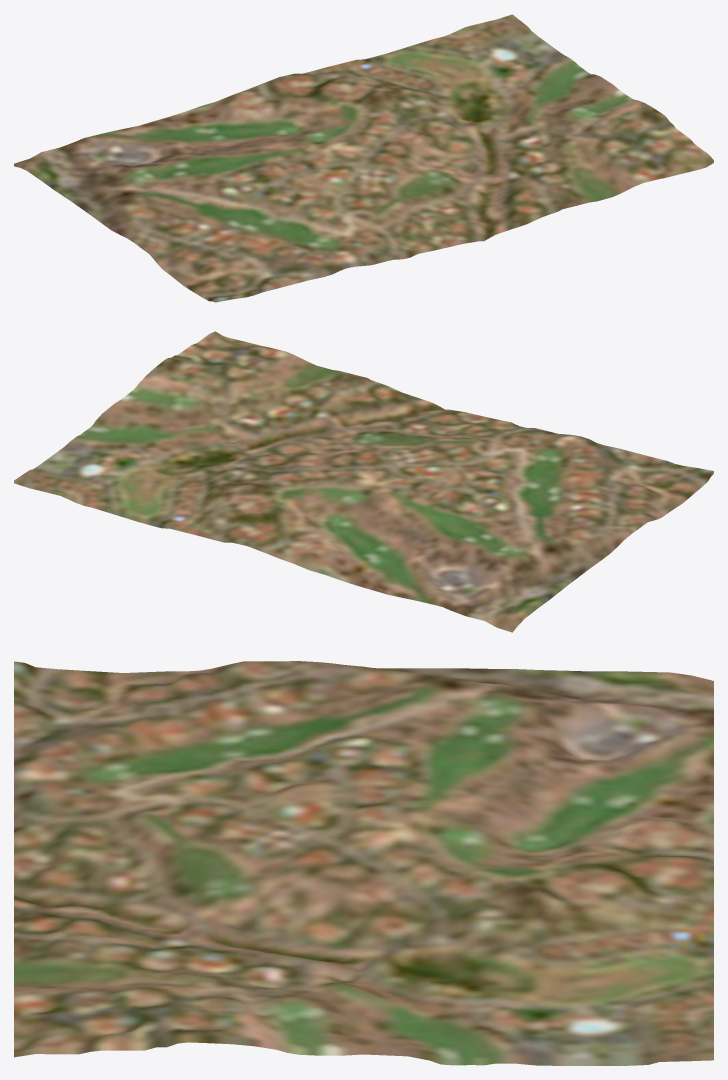
The model's file is terrain_r7_c1_lod1.glb.
The picture shows the model from 3 angles, top to bottom: view 1: azimuth 30°, elevation 25°; view 2: azimuth 150°, elevation 25°; view 3: azimuth 270°, elevation 25°; orthographic projection. The views are drawn at different scales.
Visible parts, largest first — view 1: terrain_r7_c1_lod1; view 2: terrain_r7_c1_lod1; view 3: terrain_r7_c1_lod1.
Part boxes in pixels (x1,y1,x2,y2): terrain_r7_c1_lod1: (14,14,713,302); terrain_r7_c1_lod1: (14,331,713,632); terrain_r7_c1_lod1: (14,661,713,1065).
Size of the model in its own units: 1125 by 88.03 by 787.
Materials: 1 (1 with a texture image).
